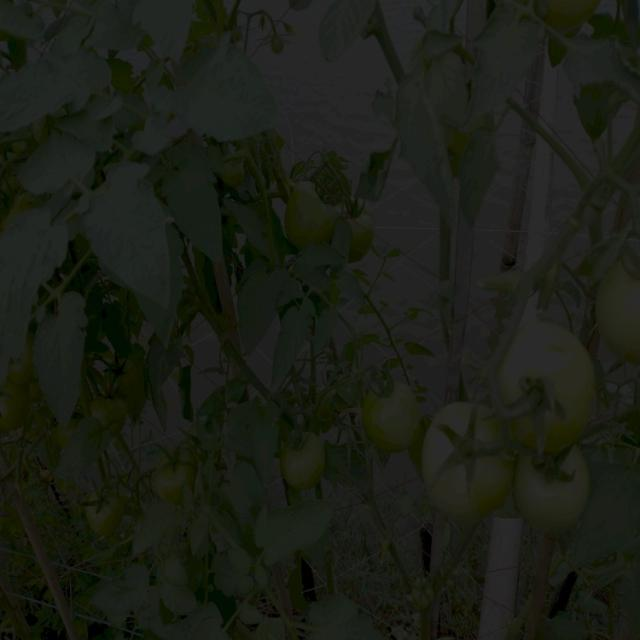tomato: (503, 323, 597, 451), (424, 402, 517, 517), (514, 438, 586, 530), (594, 265, 640, 366), (361, 376, 422, 451), (284, 179, 340, 240), (284, 432, 328, 491), (344, 202, 380, 267), (88, 485, 127, 543), (155, 460, 199, 499), (546, 1, 603, 30), (1, 387, 30, 434), (92, 395, 130, 424), (108, 359, 141, 392), (14, 356, 39, 388), (227, 162, 250, 186), (59, 424, 78, 451)
